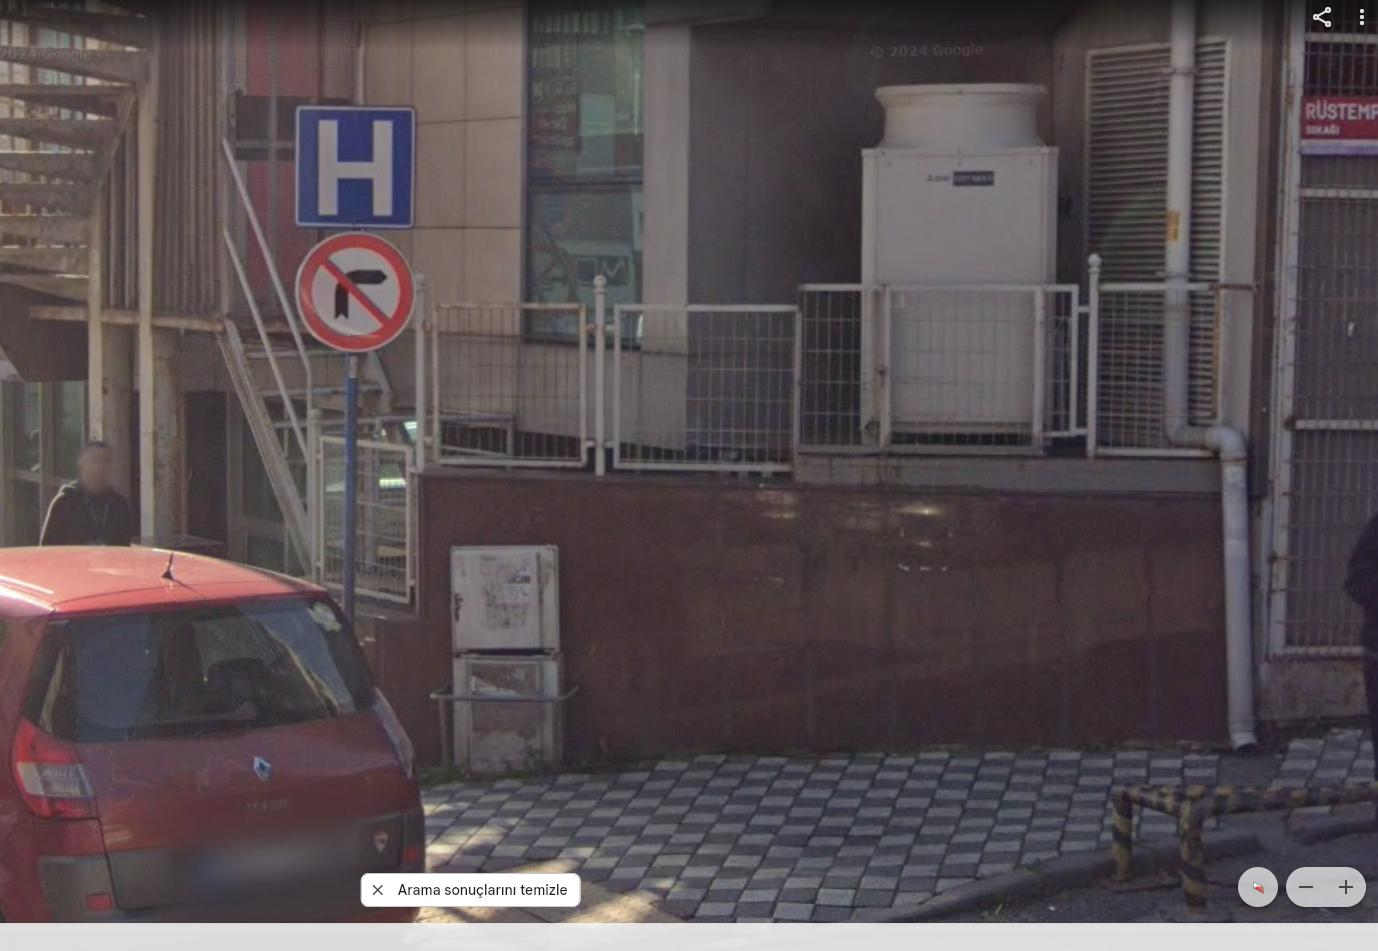rightturnsareforbidden: (284, 227, 422, 361)
